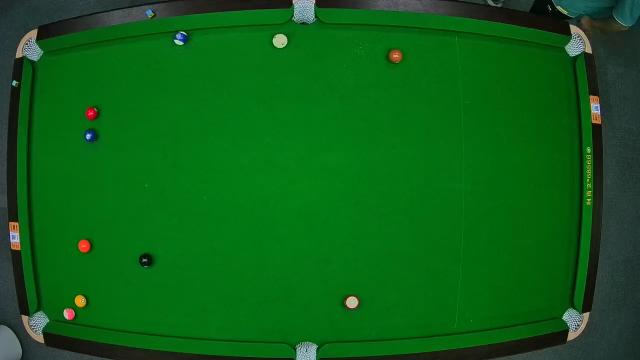bag1: (19, 36, 45, 64)
bag2: (292, 0, 316, 26)
bag3: (563, 30, 589, 57)
bag4: (25, 309, 51, 339)
bag5: (294, 340, 318, 360)
bag6: (560, 306, 586, 334)
ball0: (272, 34, 288, 50)
ball1: (72, 292, 90, 310)
ball10: (172, 30, 190, 46)
ball11: (344, 294, 360, 312)
ball12: (62, 306, 76, 322)
ball2: (84, 130, 98, 144)
ball3: (84, 106, 100, 120)
ball5: (77, 238, 93, 254)
ball7: (388, 47, 404, 65)
ball8: (138, 252, 154, 270)
